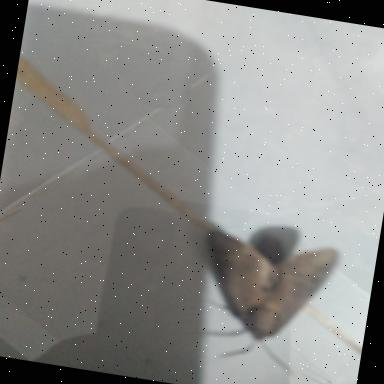abw: (182, 221, 342, 376)
